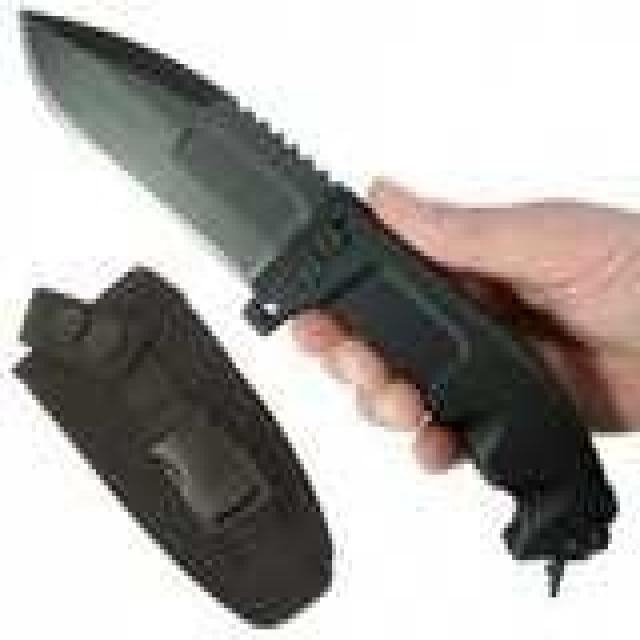Knife: (20, 9, 620, 600)
